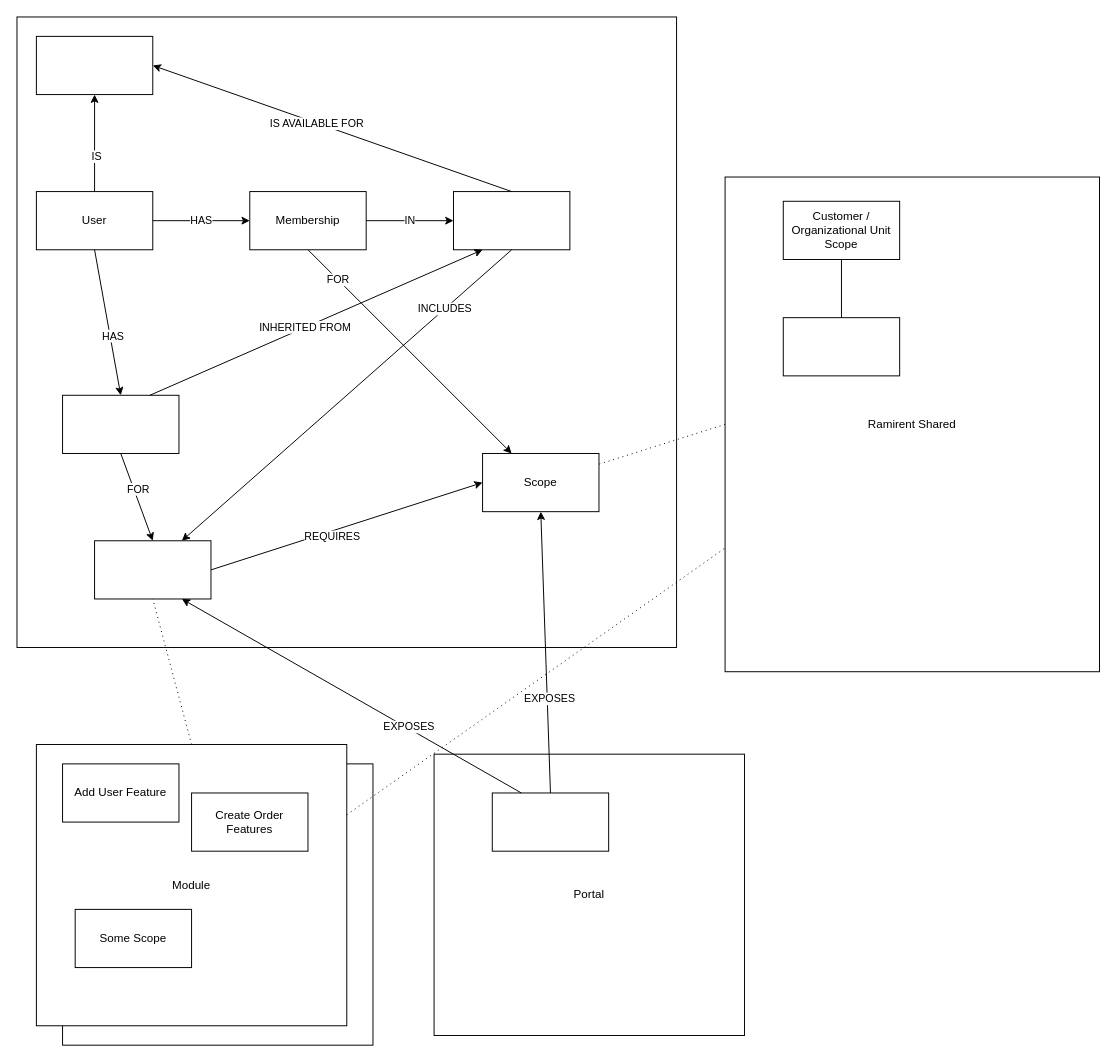
The diagram is 1116 pixels wide and 1062 high, and some of its shapes have lost their labels. Each missing label, with the centre of its shape:
"Feature" belongs at (x=152, y=569).
"IModule" belongs at (x=550, y=821).
"Permission" belongs at (x=120, y=423).
"Project Scope" belongs at (x=841, y=346).
"Role" belongs at (x=511, y=220).
"UserType" belongs at (x=94, y=65).
